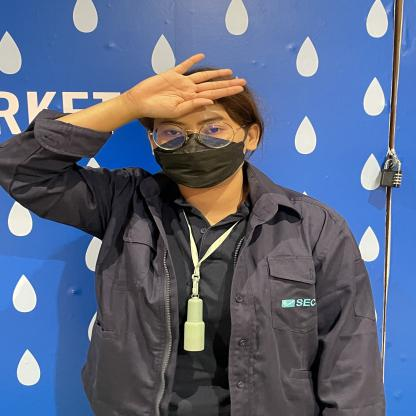Sick: (80, 49, 274, 125)
